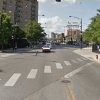crosswalk: (2, 56, 86, 87)
